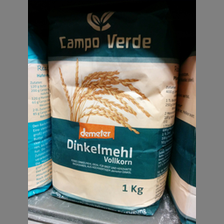flour: (48, 20, 179, 215)
